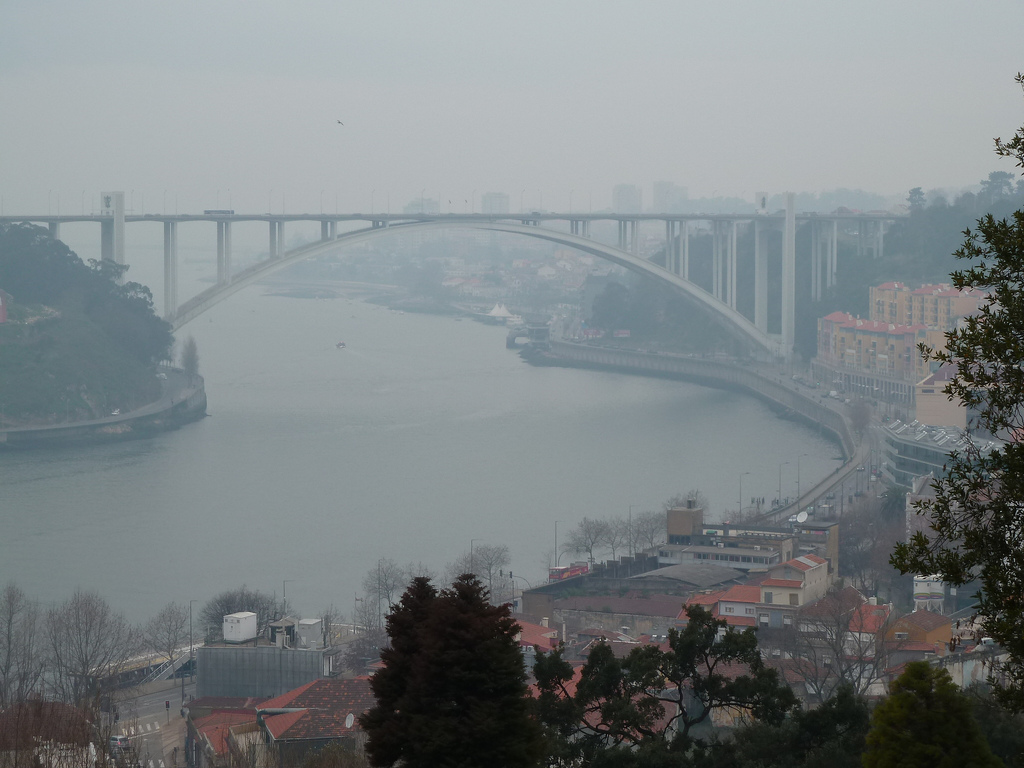arrabida: (0, 186, 907, 370)
